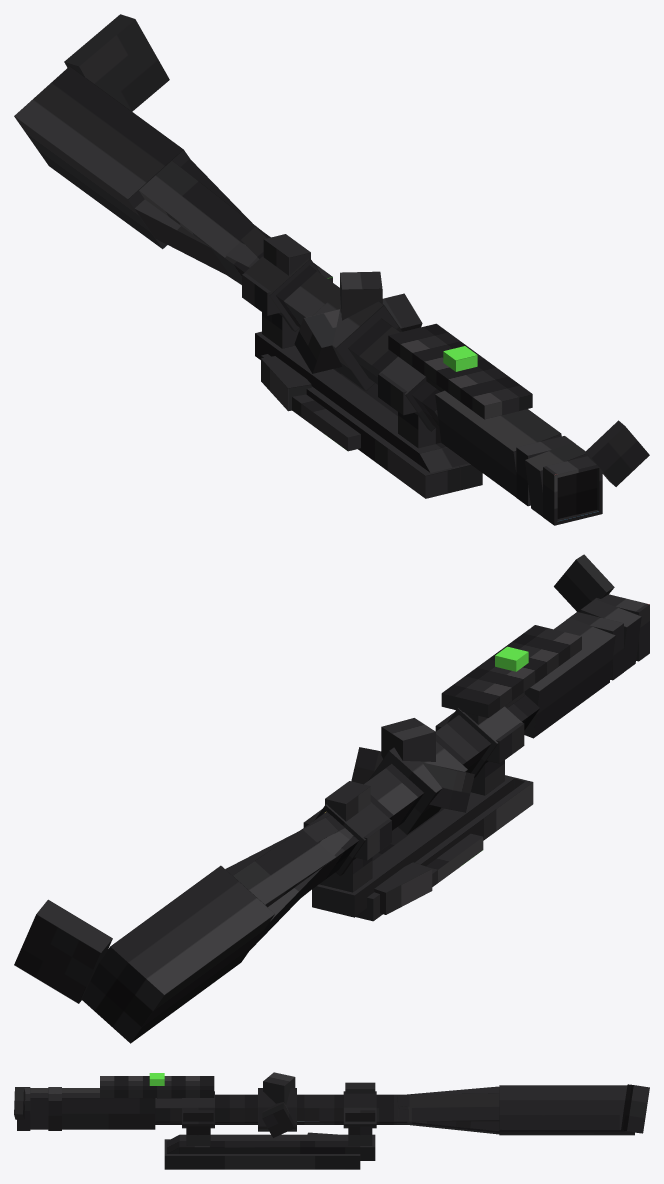
Rendered from eaglescope.fbx.
3 renders of one model, top to bottom at view 1: azimuth 30°, elevation 25°; view 2: azimuth 150°, elevation 25°; view 3: azimuth 270°, elevation 25°, orthographic. The views are drawn at different scales.
Parts seen in each view (by area): view 1: att, bone4, scopepip; view 2: att, bone4; view 3: att, bone4, _cb_scope.
Part boxes in pixels (x1,y1,x2,y2): att: (211, 228, 602, 525); bone4: (14, 14, 649, 486); scopepip: (557, 468, 597, 519); att: (303, 594, 649, 921); bone4: (14, 554, 614, 1043); att: (17, 1072, 408, 1169); bone4: (14, 1084, 649, 1135); _cb_scope: (149, 1073, 164, 1085).
Bounding box in the file's own units: 44.2 × 45.56 × 264.
